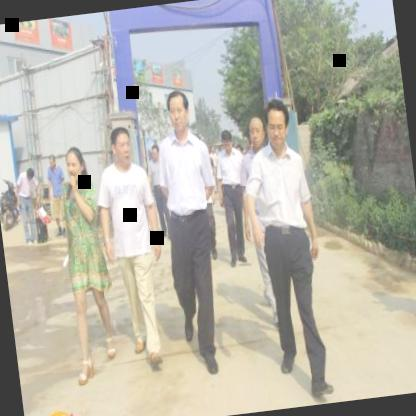head: (260, 92, 296, 152), (162, 87, 194, 139), (107, 122, 137, 171), (61, 142, 88, 186), (243, 112, 267, 154), (219, 127, 237, 154), (148, 140, 160, 164), (25, 163, 37, 184), (46, 152, 56, 170)
